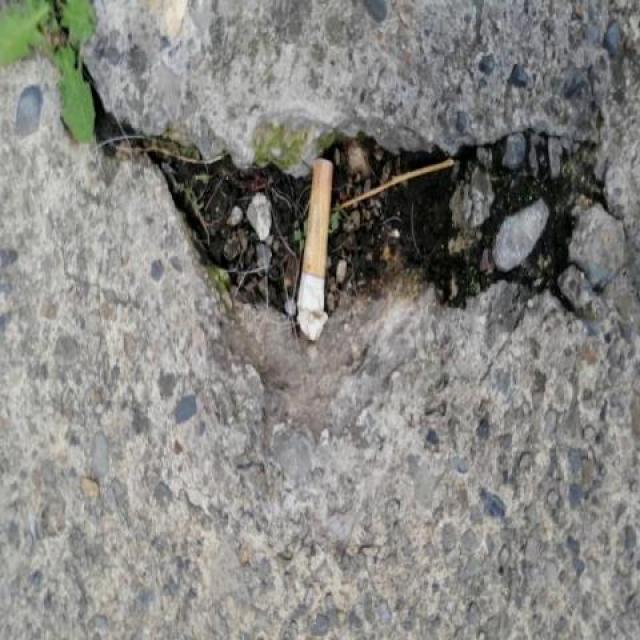non-organic waste: (292, 153, 336, 348)
